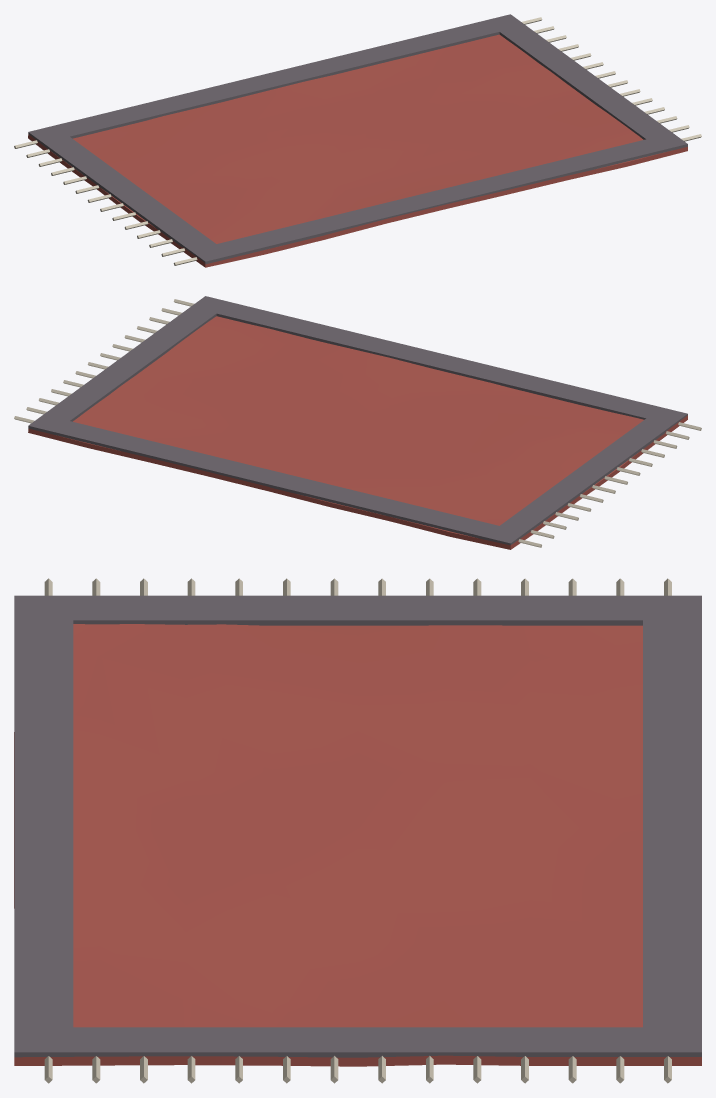
The model's file is worn-rug-v01.glb.
The picture shows the model from 3 angles, top to bottom: view 1: azimuth 30°, elevation 25°; view 2: azimuth 150°, elevation 25°; view 3: azimuth 270°, elevation 25°; orthographic projection. The views are drawn at different scales.
Parts seen in each view (by area): view 1: worn-rug; view 2: worn-rug; view 3: worn-rug.
Part boxes in pixels (left/top/right/bottom): worn-rug: left=14, top=14, right=701, bottom=267; worn-rug: left=14, top=296, right=701, bottom=549; worn-rug: left=14, top=578, right=701, bottom=1083.
Bounding box in the file's own units: 2.4 × 0.0371 × 1.4.
